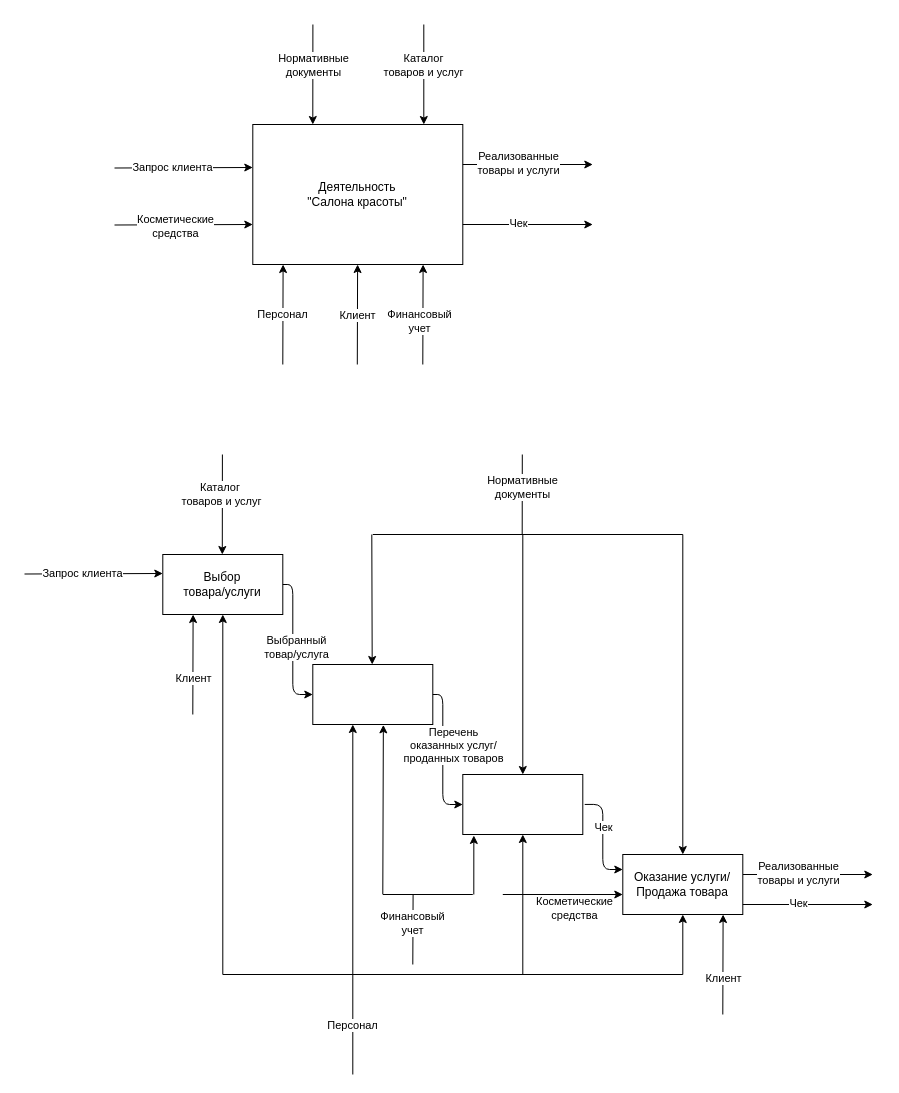
Some shapes in this 899 by 1093 pixel diagram are drawn without their labels. Here are the shapes that lost their labels. From the top down, the centre of each, then its label:
the point at 372,694: Создание документа "Оказание услуги"/ "Продажа товара"
the point at 522,804: Оплата товара/услуги
